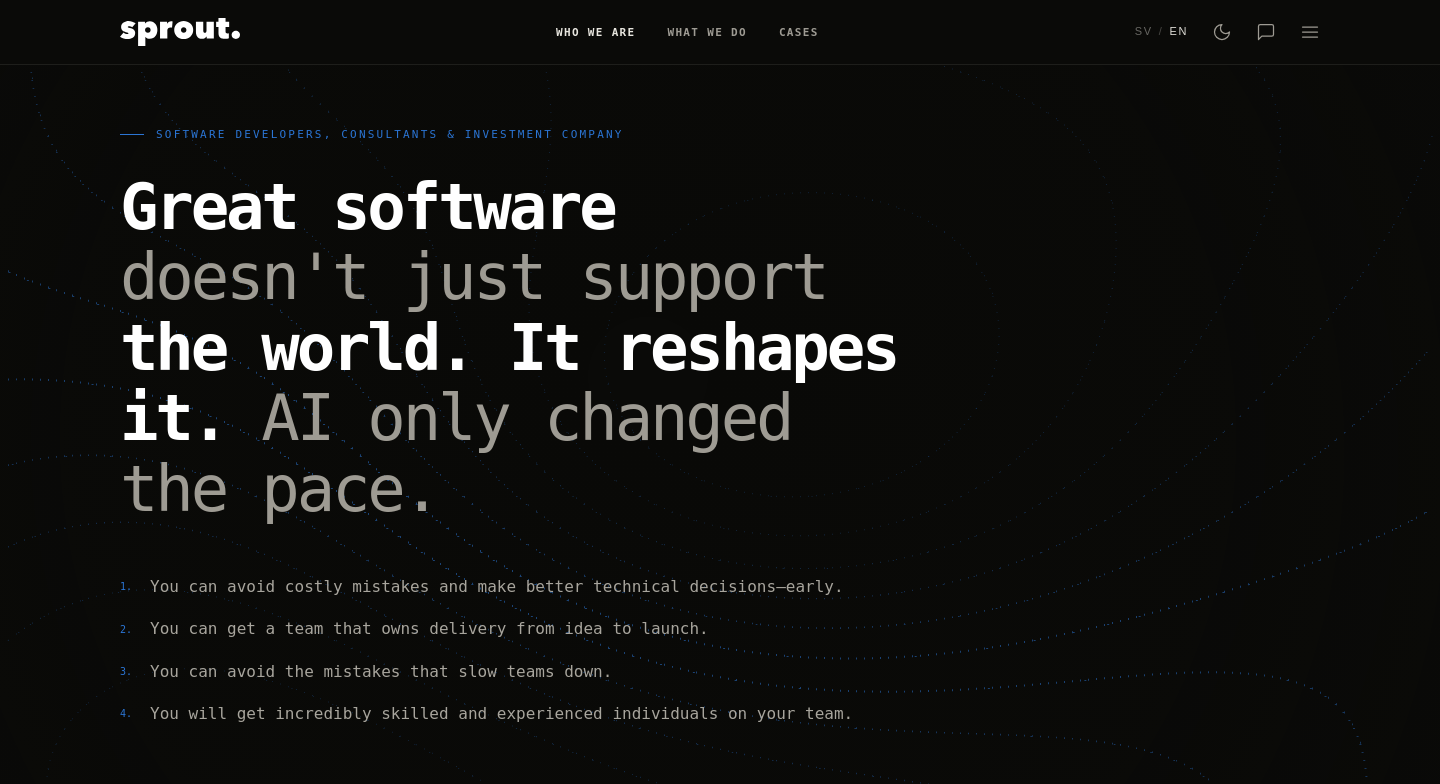
Scenario: App › toggles the mobile menu button state
Click the button named "open menu". click: (1310, 32)
box: [1300,22,1320,42]
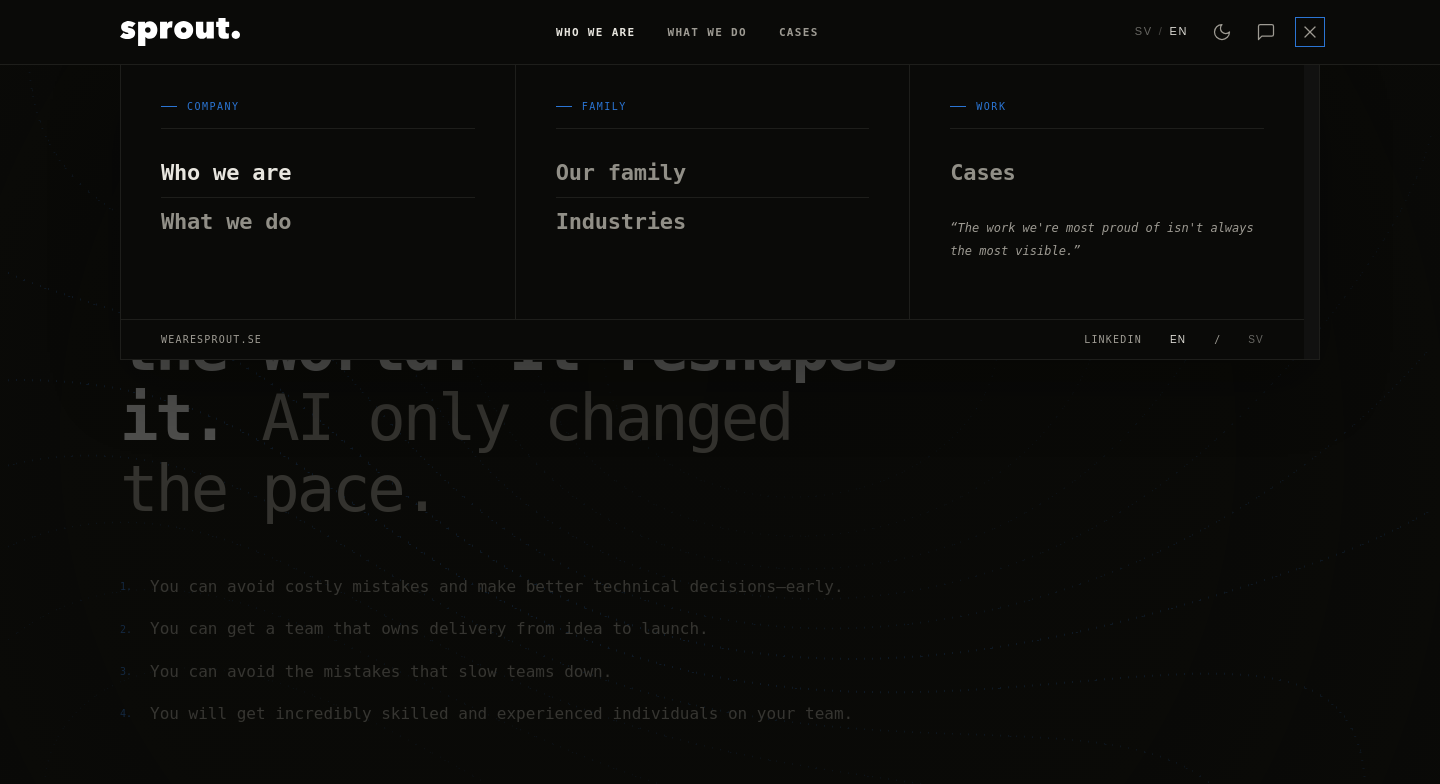
Expected: the button named "close menu" is expanded, [1300,22,1320,42]
